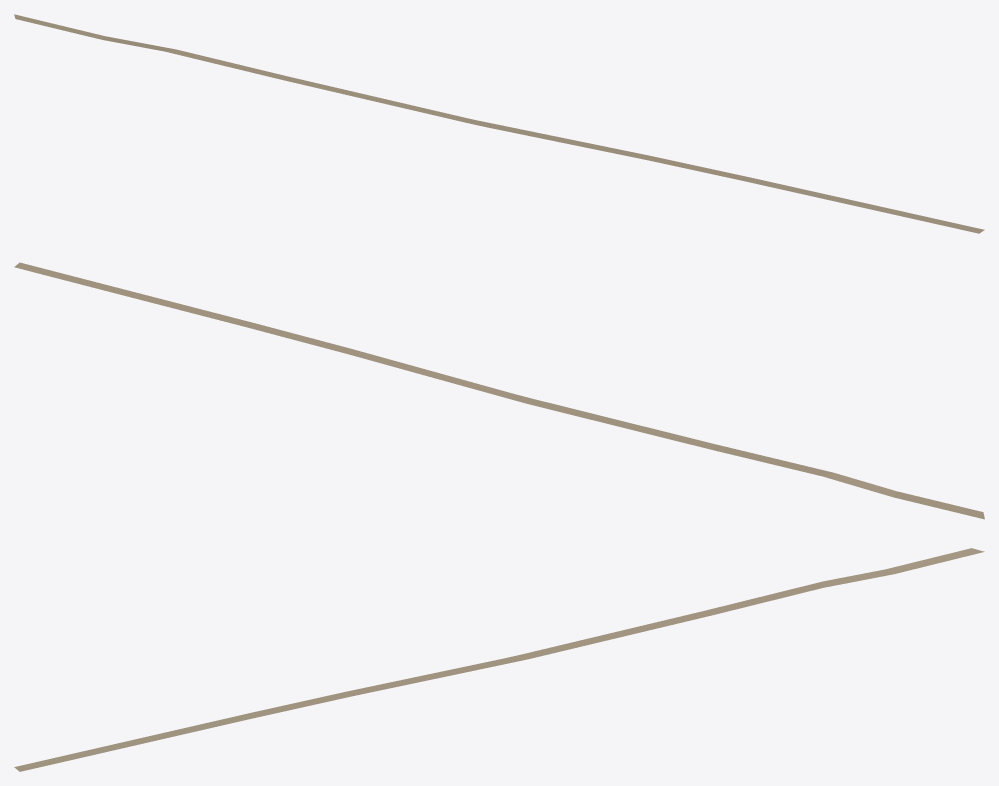
File: farm_-36_-33_track.glb
The picture shows the model from 3 angles, top to bottom: view 1: azimuth 30°, elevation 25°; view 2: azimuth 210°, elevation 25°; view 3: azimuth 270°, elevation 25°; orthographic projection.
Visible parts, largest first — view 1: geometry_0; view 2: geometry_0; view 3: geometry_0.
Part boxes in pixels (<box>): geometry_0: <box>14,14,984,233</box>; geometry_0: <box>14,262,984,519</box>; geometry_0: <box>14,548,984,771</box>.
Bounding box in the file's own units: 159 × 5.79 × 271.
